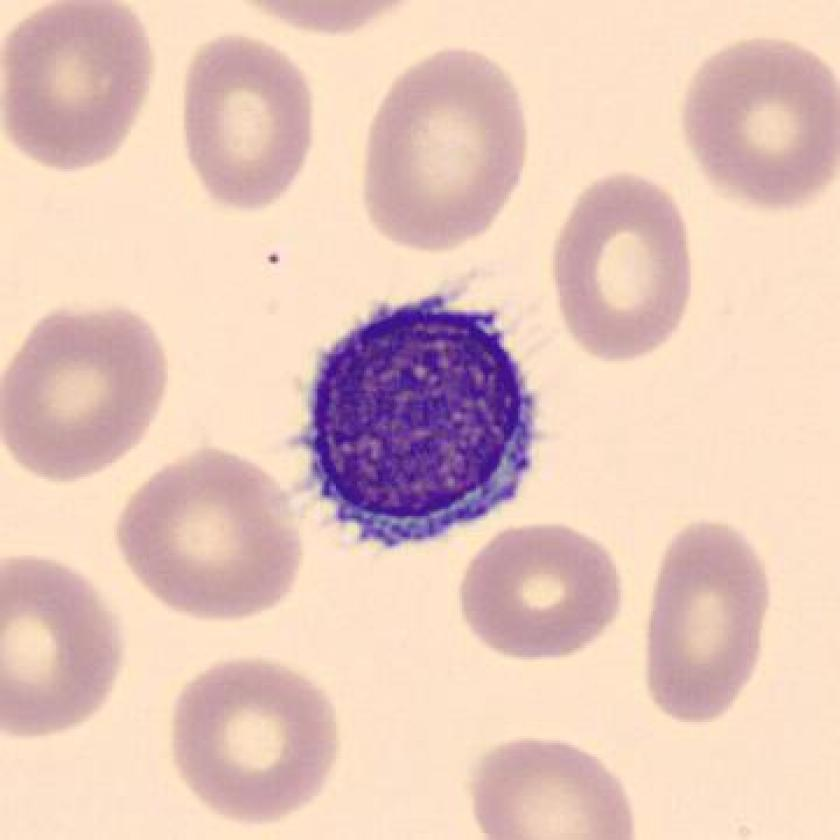lymphocyte: (276, 272, 559, 575)
